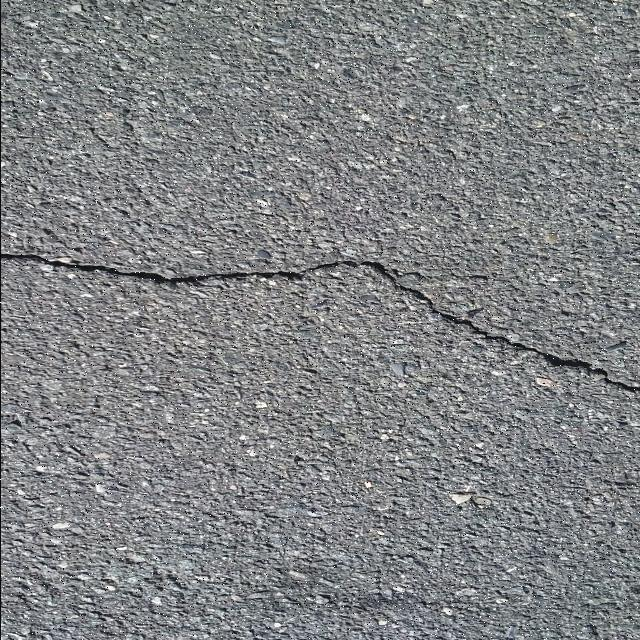Crack: (0, 253, 640, 393)
